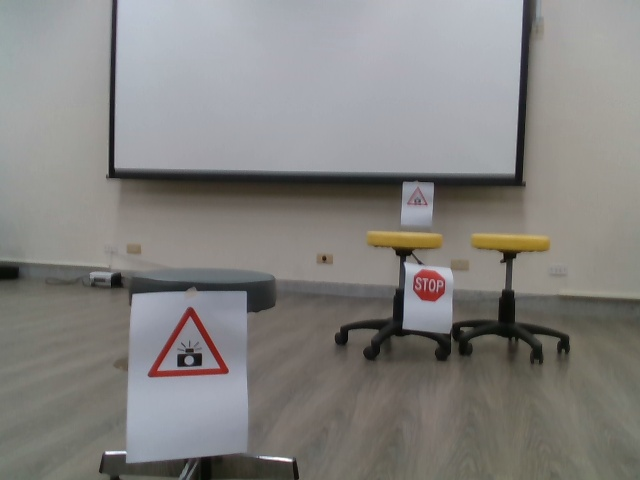camera: (147, 306, 230, 383)
stop: (410, 267, 446, 304)
